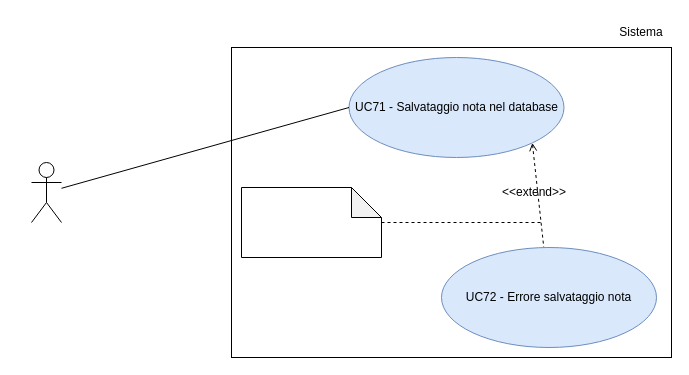
Some shapes in this 689 by 375 pixel diagram are drawn without their labels. The centre of each missing label's shape, as x and y in pixels:
"Condizione Il sistema non riesce a salvare la nota" goes at point 311,222.
"Utente autenticato" goes at point 46,192.
